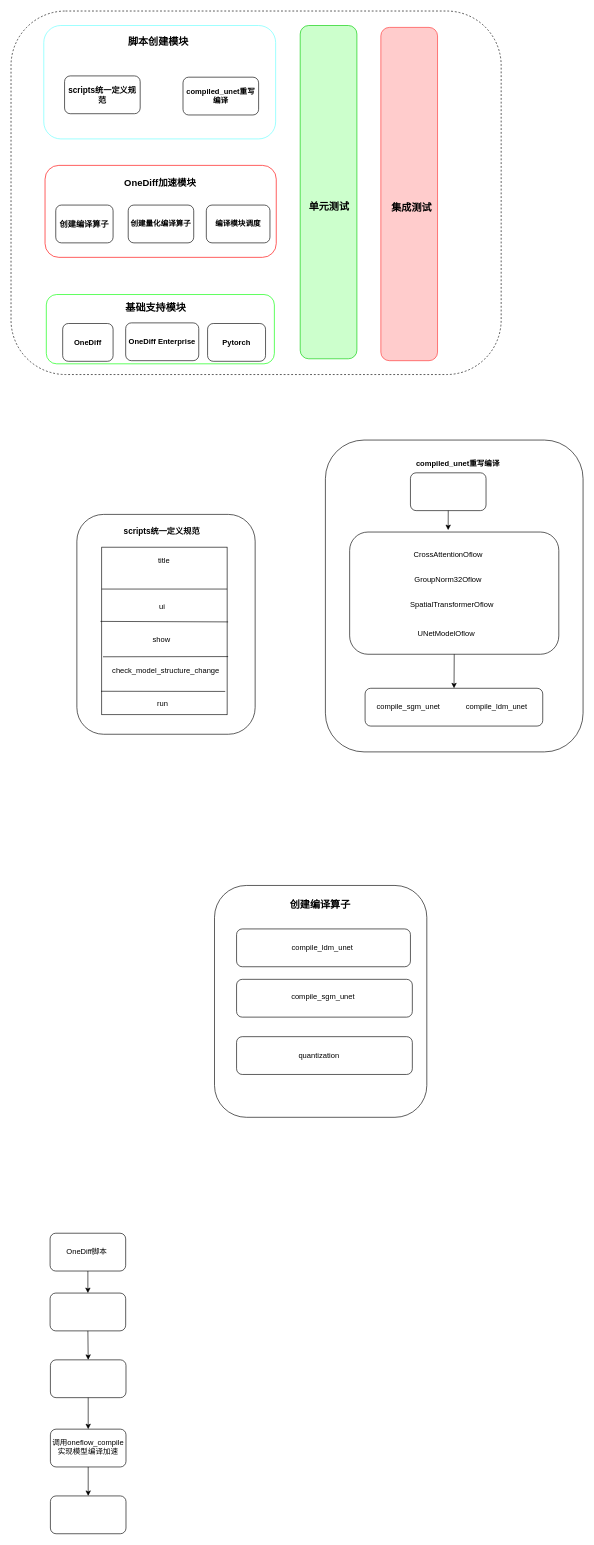
This 594x1545 diagram has some shape labels left out. Each missing label, with the box of its shape:
ldm、sgm: (410, 472, 486, 511)
scripts根据用户选择从ldm、sgm中进行编译加速: (50, 1359, 126, 1398)
加载并配置模型参数: (49, 1292, 126, 1331)
返回经过加速后的模型: (50, 1495, 126, 1534)
